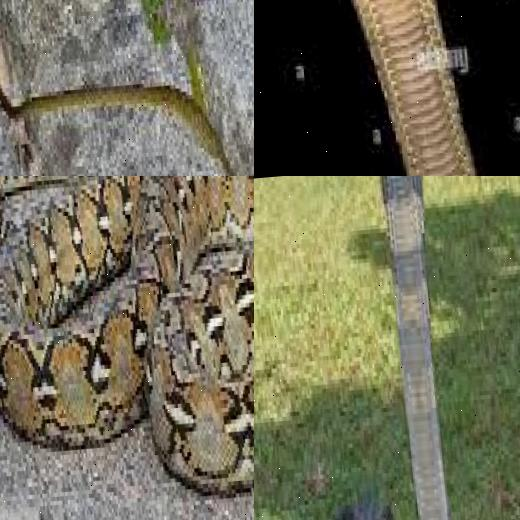snake: (254, 176, 510, 520), (0, 176, 254, 520), (263, 0, 520, 176), (0, 0, 254, 176)
